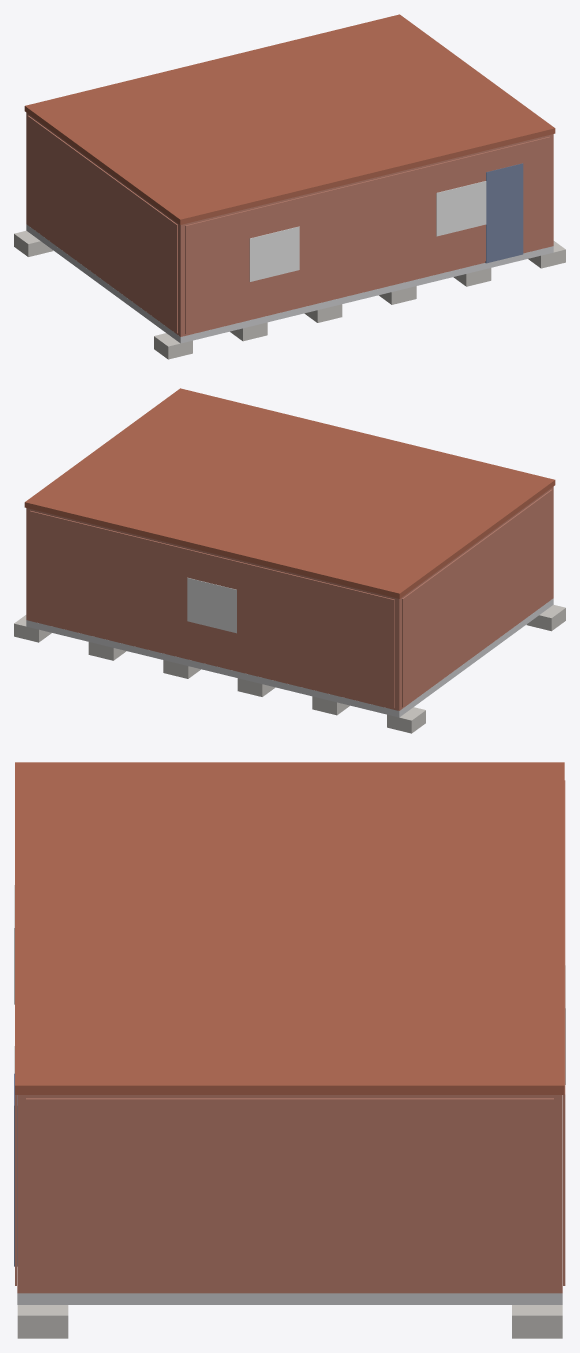
Rendered from Studio-30-Base-OxidisedRed-LOD3.glb.
The picture shows the model from 3 angles, top to bottom: view 1: azimuth 30°, elevation 25°; view 2: azimuth 150°, elevation 25°; view 3: azimuth 270°, elevation 25°; orthographic projection. The views are drawn at different scales.
Visible parts, largest first — view 1: RoofMain, ExteriorPanelsStandard, WindowsStandard, BaseFrame, FoundationBlocks, ExteriorShell, EntryDoor; view 2: RoofMain, ExteriorPanelsStandard, BaseFrame, ExteriorShell, FoundationBlocks, WindowsStandard; view 3: RoofMain, ExteriorPanelsStandard, ExteriorShell, BaseFrame, FoundationBlocks.
Boxes of the visible parts, x1,y1,x2,y2 form: RoofMain: [24, 14, 555, 224]; ExteriorPanelsStandard: [27, 115, 549, 334]; WindowsStandard: [249, 181, 486, 281]; BaseFrame: [26, 224, 553, 343]; FoundationBlocks: [14, 230, 565, 359]; ExteriorShell: [26, 112, 553, 336]; EntryDoor: [485, 163, 523, 263]; RoofMain: [24, 388, 555, 598]; ExteriorPanelsStandard: [30, 489, 552, 708]; BaseFrame: [26, 598, 553, 717]; ExteriorShell: [26, 486, 553, 710]; FoundationBlocks: [14, 604, 565, 733]; WindowsStandard: [187, 577, 236, 633]; RoofMain: [15, 762, 564, 1094]; ExteriorPanelsStandard: [15, 780, 565, 1290]; ExteriorShell: [17, 1095, 562, 1293]; BaseFrame: [17, 1293, 562, 1304]; FoundationBlocks: [17, 1305, 562, 1338].
Size of the model in its own units: 9.6 by 3.17 by 6.53.
